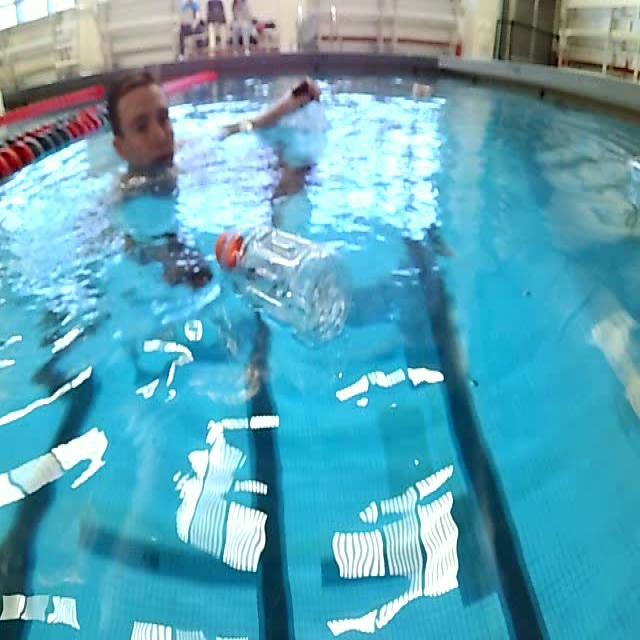Bottle: (211, 221, 353, 349)
